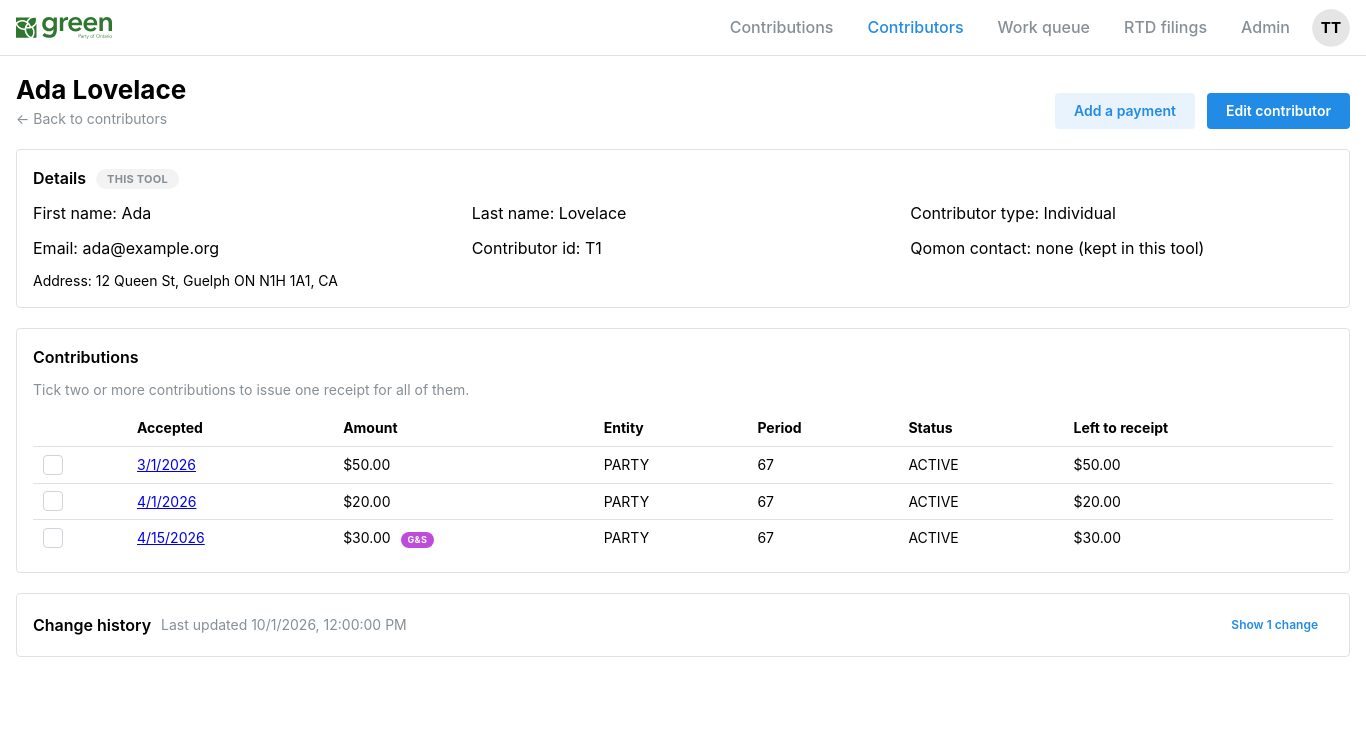
it: issues one receipt for two contributions that may share it (EO rows 43, 46)
The width and height of the screenshot is (1366, 738).
Click the checkbox named "Select the contribution of 3/1/2026".
click(53, 465)  # box [43,455,63,475]
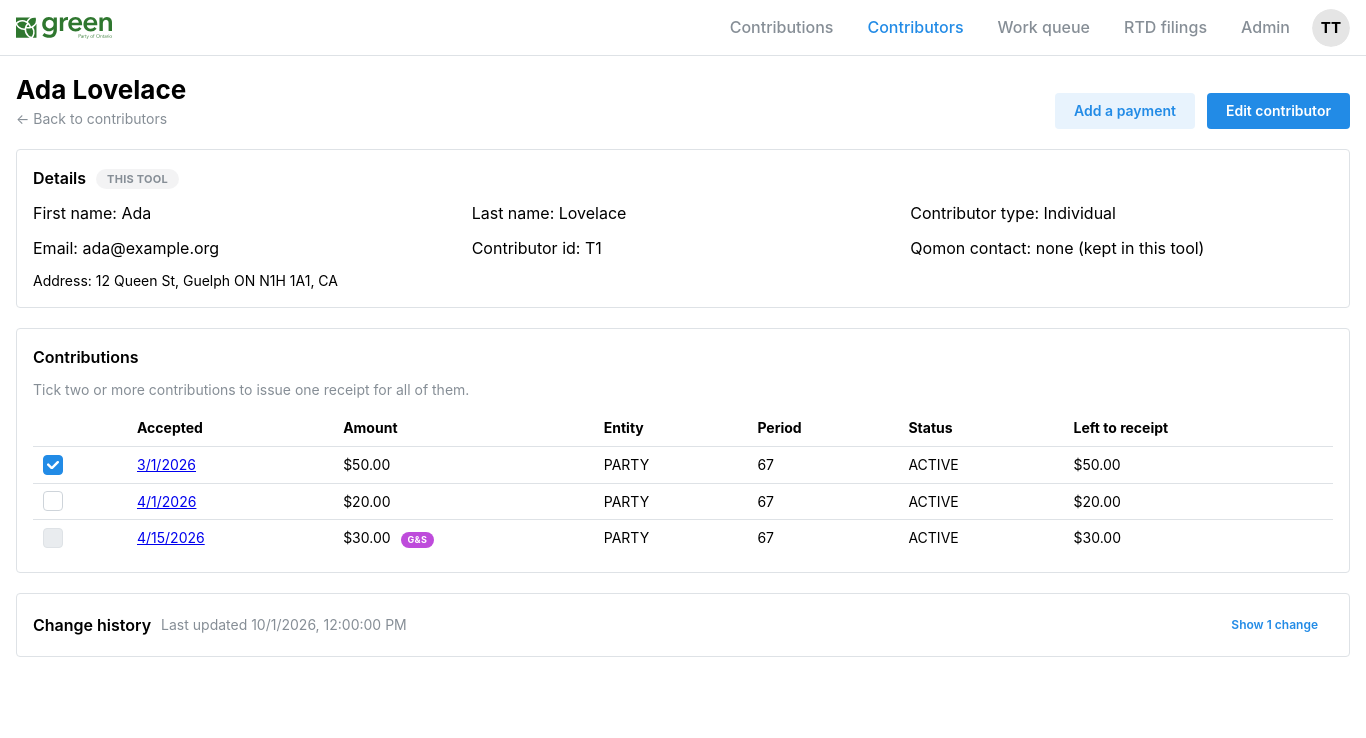
expect the checkbox named "Select the contribution of 4/15/2026" is disabled: met, box [43,528,63,548]
Click the checkbox named "Select the contribution of 4/1/2026".
click(53, 501)  # box [43,491,63,511]
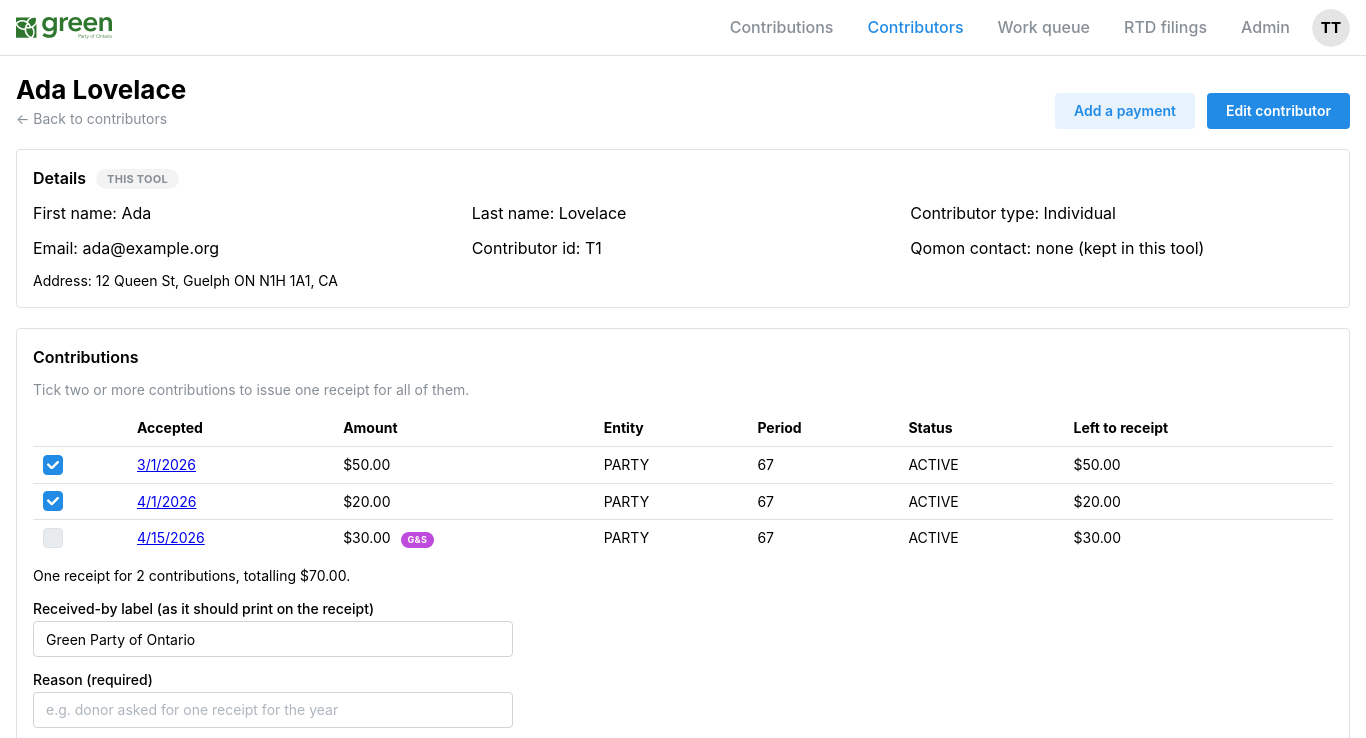
expect the text "One receipt for 2 contributions, totalling $70.00." is shown: met, box [33,567,350,584]
Type "donor asked for one receipt" into the field labelled "Reason (required)".
click(273, 710); type("donor asked for one receipt")  # box [33,692,513,728]
(page scrolled)
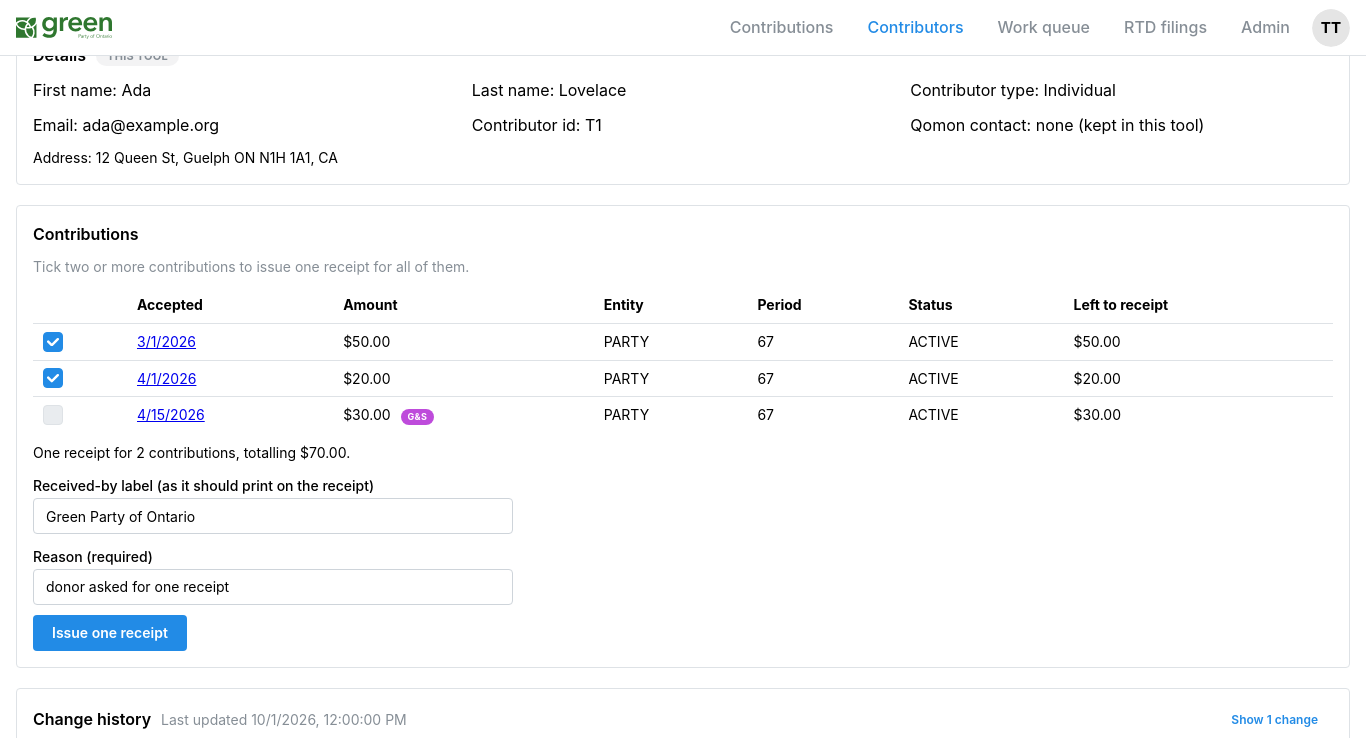
Click the button "Issue one receipt".
click(110, 633)  # box [33,615,187,651]
(page scrolled)
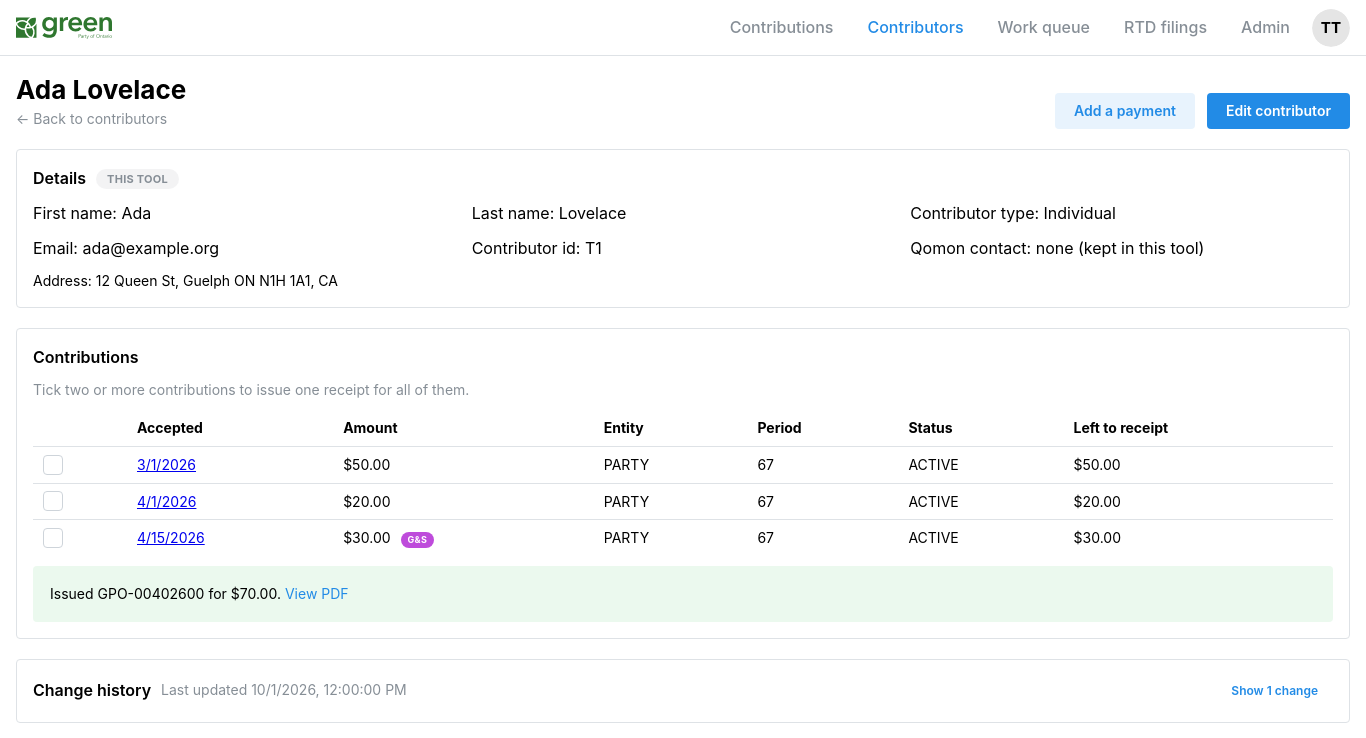
expect the text "Issued GPO-00402600 for $70.00. View PDF" is shown: met, box [50,585,349,602]
